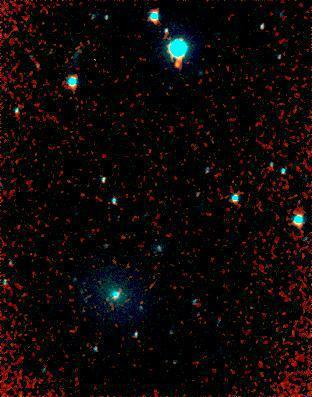star: (162, 45, 192, 75)
